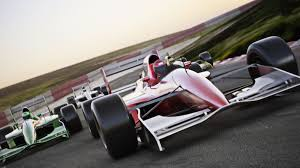f1_car: (77, 31, 300, 167), (1, 92, 88, 167), (64, 80, 111, 108)
